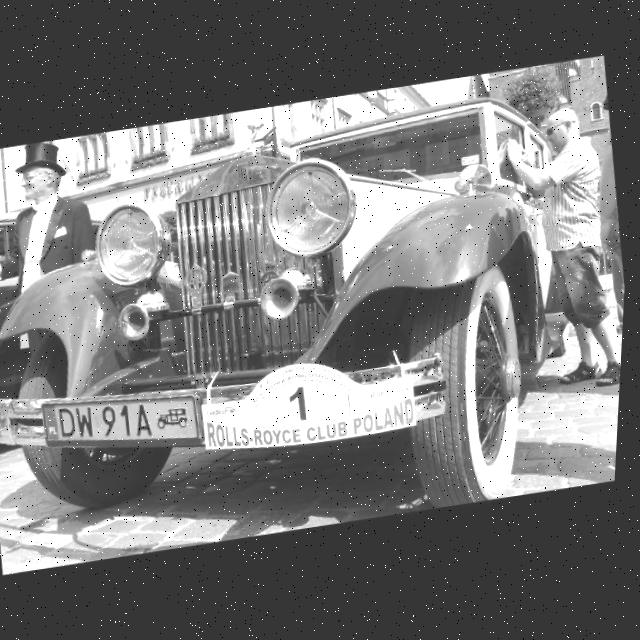license-plates: (43, 397, 198, 443)
